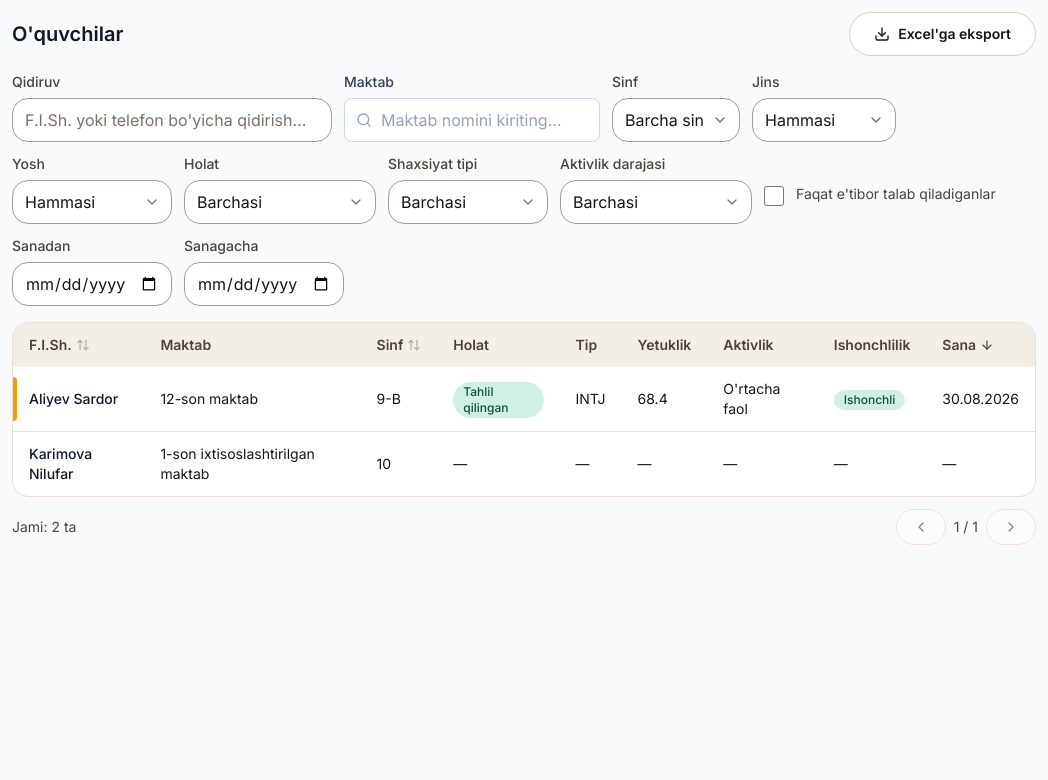
Scenario: StudentsPage › eksport tugmasi muvaffaqiyatli yuklaydi va tasdiq ko'rsatadi
The image size is (1048, 780).
Expected: the text "Aliyev Sardor" is shown, 29,389 -> 118,409
Click the button "Excel'ga eksport".
click(943, 34)  # box 849,12 -> 1036,56
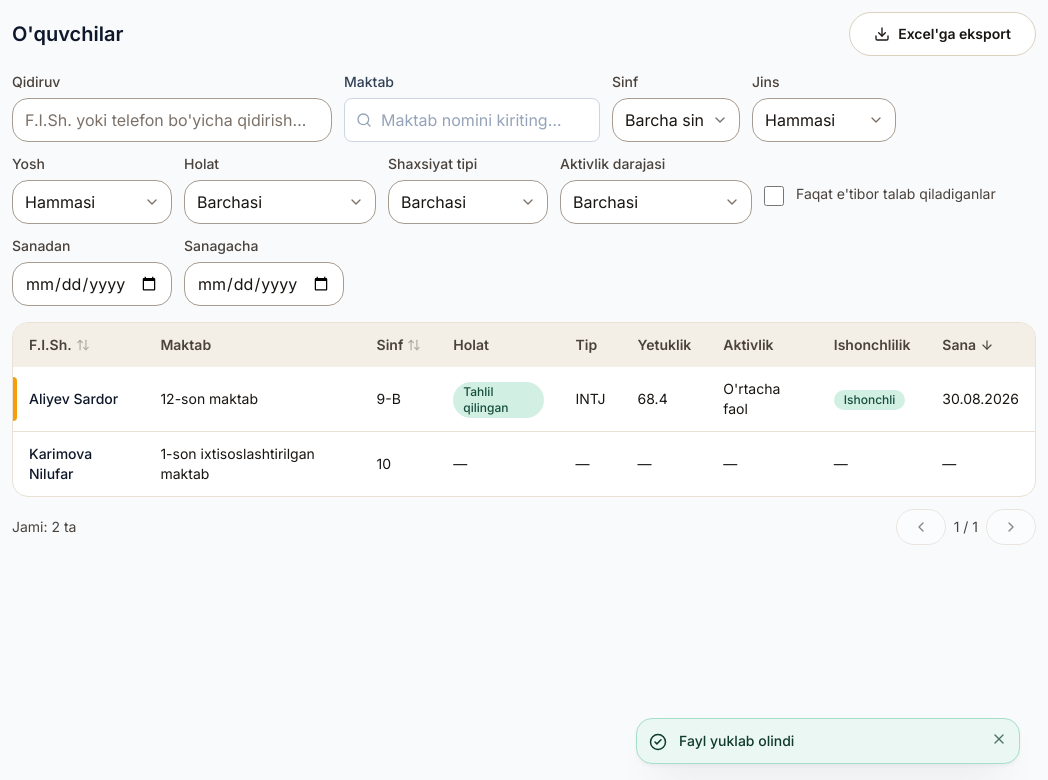
Now the text "Fayl yuklab olindi" is shown, box 679,732 -> 794,749
